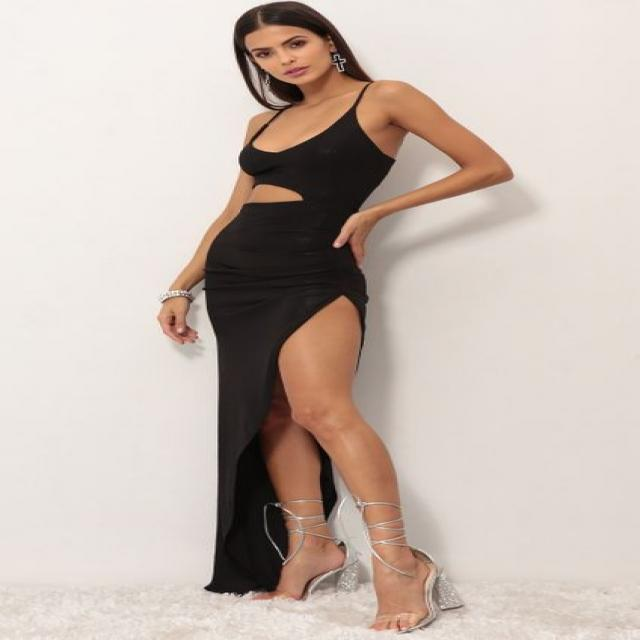clothes: (178, 83, 442, 607)
